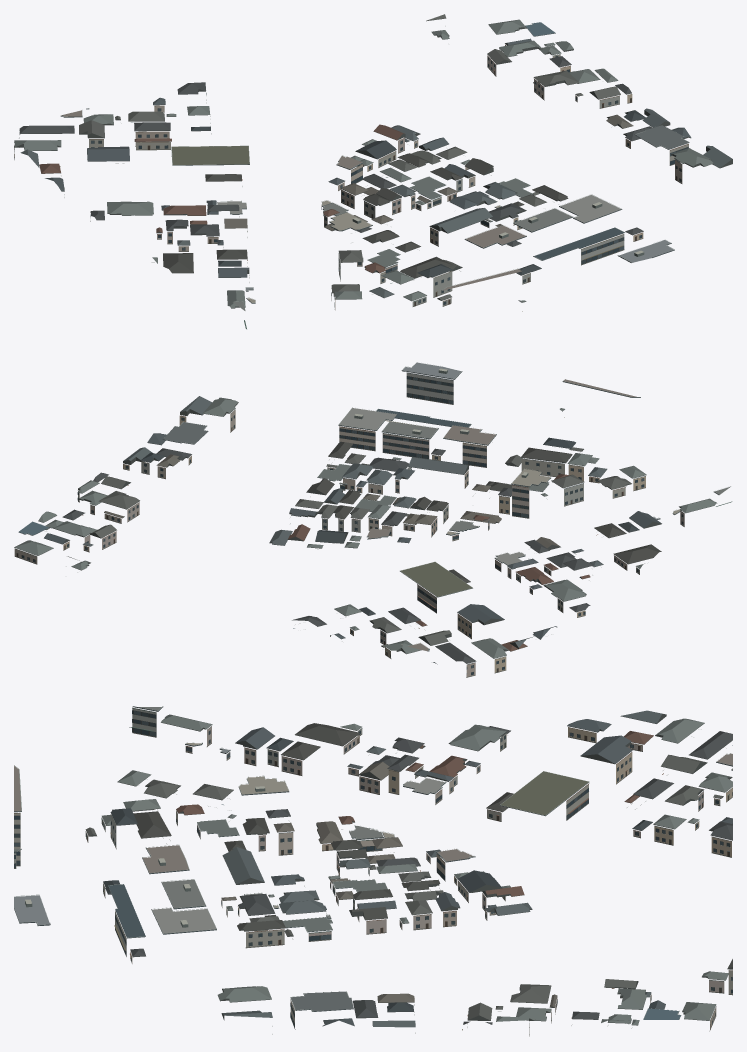
3 views of the same model, one above another, from view 1: azimuth 30°, elevation 25°; view 2: azimuth 150°, elevation 25°; view 3: azimuth 270°, elevation 25° (orthographic). The views are drawn at different scales.
Parts seen in each view (by area): view 1: r1-c3; view 2: r1-c3; view 3: r1-c3.
Boxes of the visible parts, x1=… form: r1-c3: x1=14, y1=14, x2=732, y2=329; r1-c3: x1=14, y1=362, x2=732, y2=677; r1-c3: x1=14, y1=706, x2=732, y2=1036.
Size of the model in its own units: 250 by 23.05 by 250.
